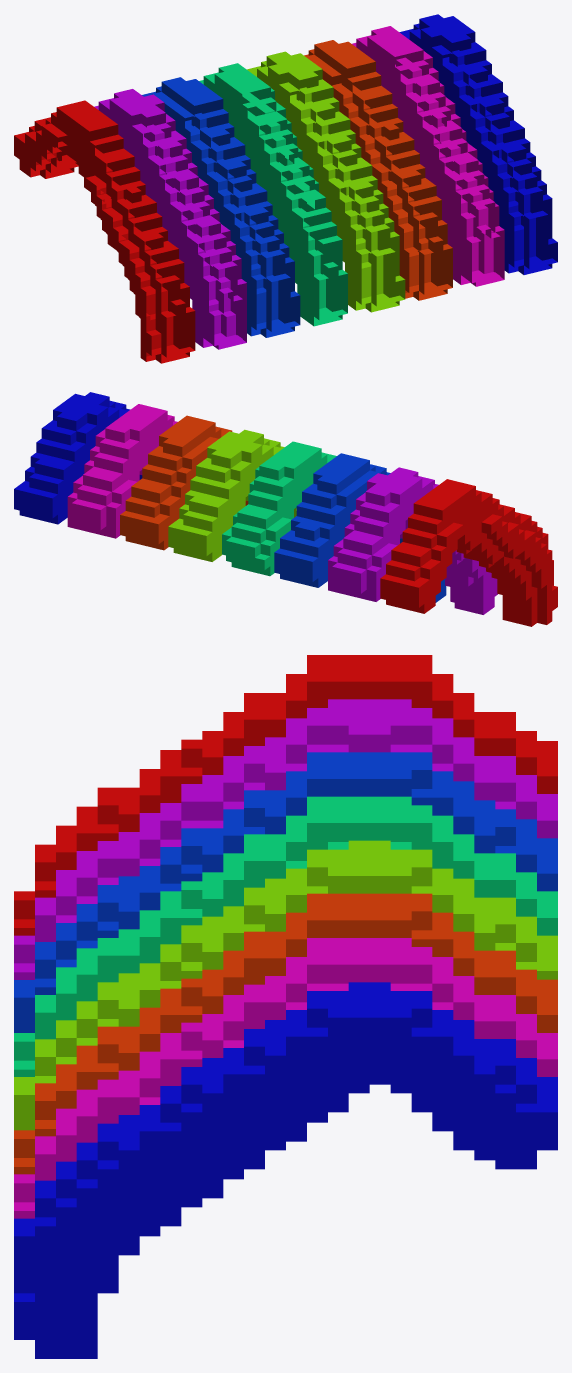
File: cockpit_core_engine_top_pipes_2-2.fbx
The picture shows the model from 3 angles, top to bottom: view 1: azimuth 30°, elevation 25°; view 2: azimuth 150°, elevation 25°; view 3: azimuth 270°, elevation 25°; orthographic projection. The views are drawn at different scales.
Visible parts, largest first — view 1: cockpit_core_engine_top_pipes; view 2: cockpit_core_engine_top_pipes; view 3: cockpit_core_engine_top_pipes.
Part boxes in pixels (x1,y1,x2,y2): cockpit_core_engine_top_pipes: [14, 14, 557, 363]; cockpit_core_engine_top_pipes: [14, 392, 557, 626]; cockpit_core_engine_top_pipes: [14, 655, 557, 1358].
Bounding box in the file's own units: 942 × 404 × 583.
